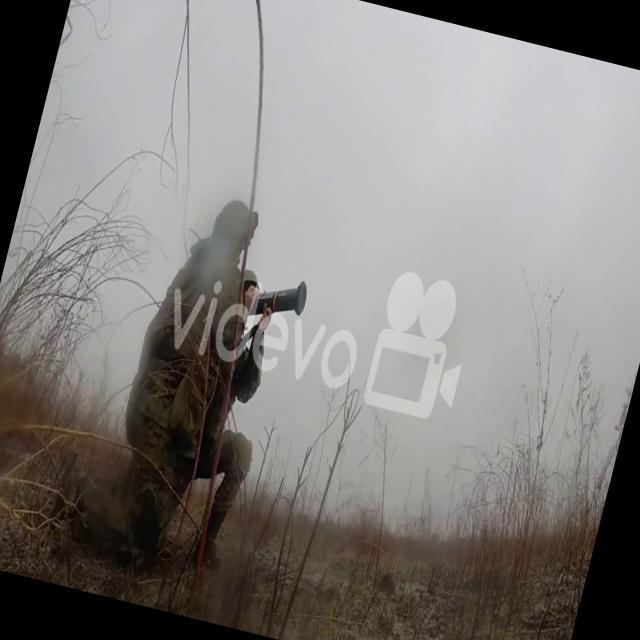rocket: (242, 266, 310, 329)
